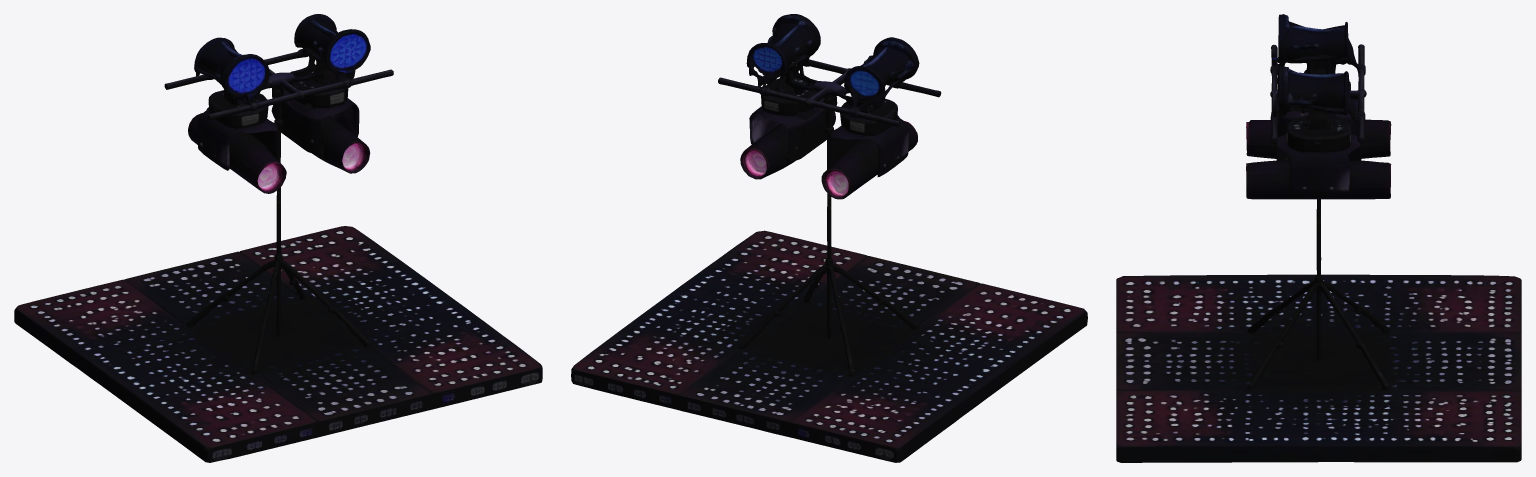
File: the_dance_floor_and_the_light_holder_compressed.glb
3 views of the same model, side by side, from view 1: azimuth 30°, elevation 25°; view 2: azimuth 150°, elevation 25°; view 3: azimuth 270°, elevation 25° (orthographic). The views are drawn at different scales.
Visible parts, largest first — view 1: geometry_0; view 2: geometry_0; view 3: geometry_0.
Part boxes in pixels (box(x1,y1,x2,y2)): geometry_0: box(14, 14, 542, 462); geometry_0: box(571, 14, 1087, 462); geometry_0: box(1116, 14, 1521, 462).
Size of the model in its own units: 0.7004 by 0.6391 by 0.7004.
1 material, 1 textured.
